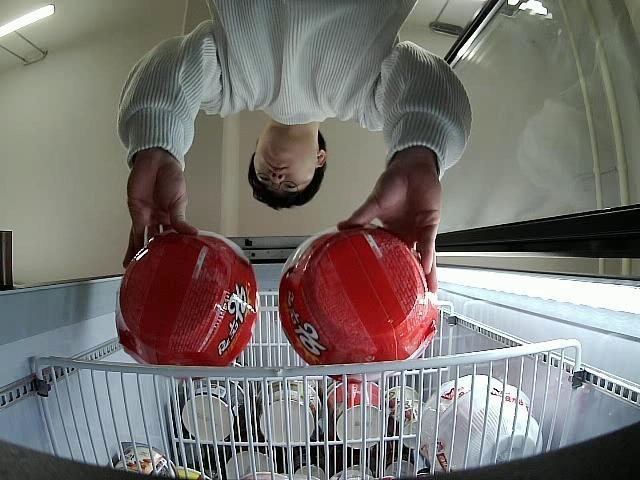10_wangTtukkeong: (116, 228, 260, 367)
